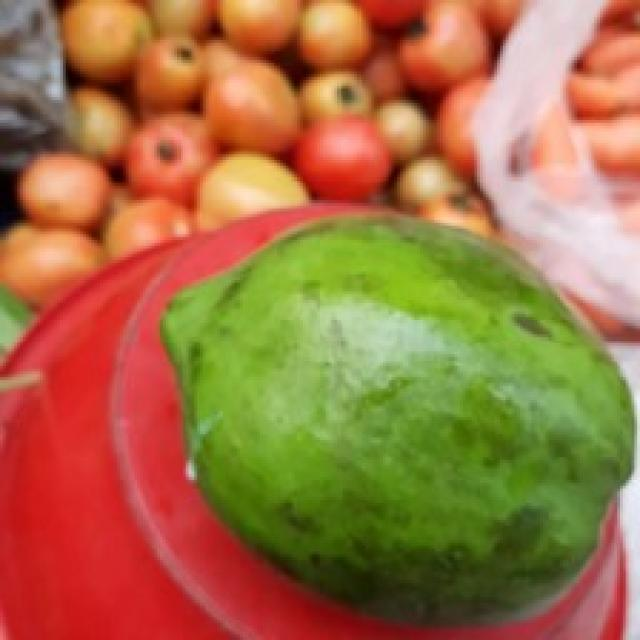Pepaya unrippen: (170, 210, 640, 630)
